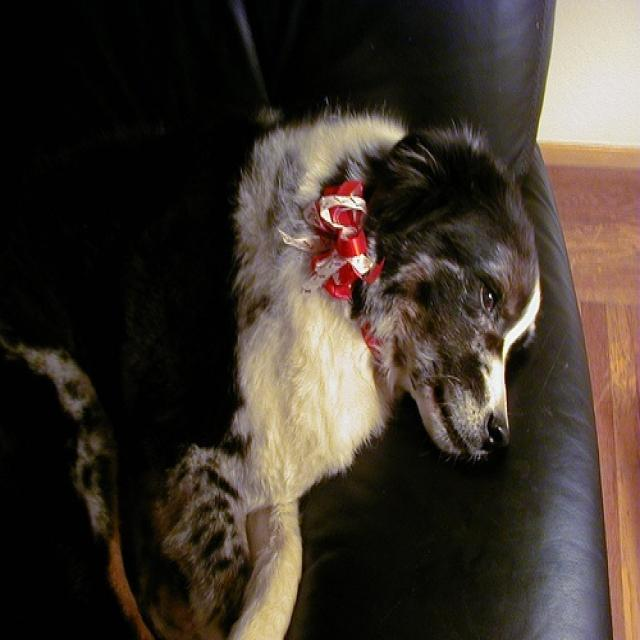dog: (0, 109, 541, 638)
